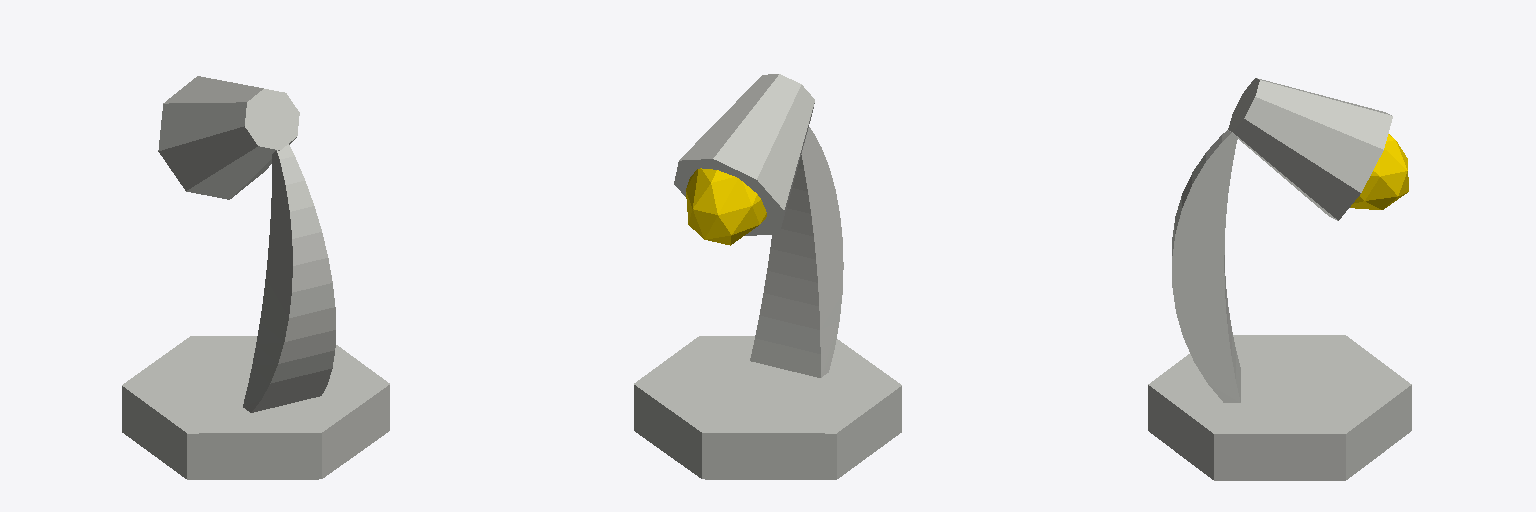
Rendered from Lamp.obj.
3 renders of one model, left to right at view 1: azimuth 30°, elevation 25°; view 2: azimuth 150°, elevation 25°; view 3: azimuth 270°, elevation 25°, orthographic.
Parts seen in each view (by area): view 1: mergedBlocks; view 2: mergedBlocks; view 3: mergedBlocks.
Part boxes in pixels (x1,y1,x2,y2): mergedBlocks: (122, 76, 389, 479); mergedBlocks: (634, 74, 901, 479); mergedBlocks: (1148, 78, 1411, 480).
Bounding box in the file's own units: 0.2736 × 0.4515 × 0.3076.